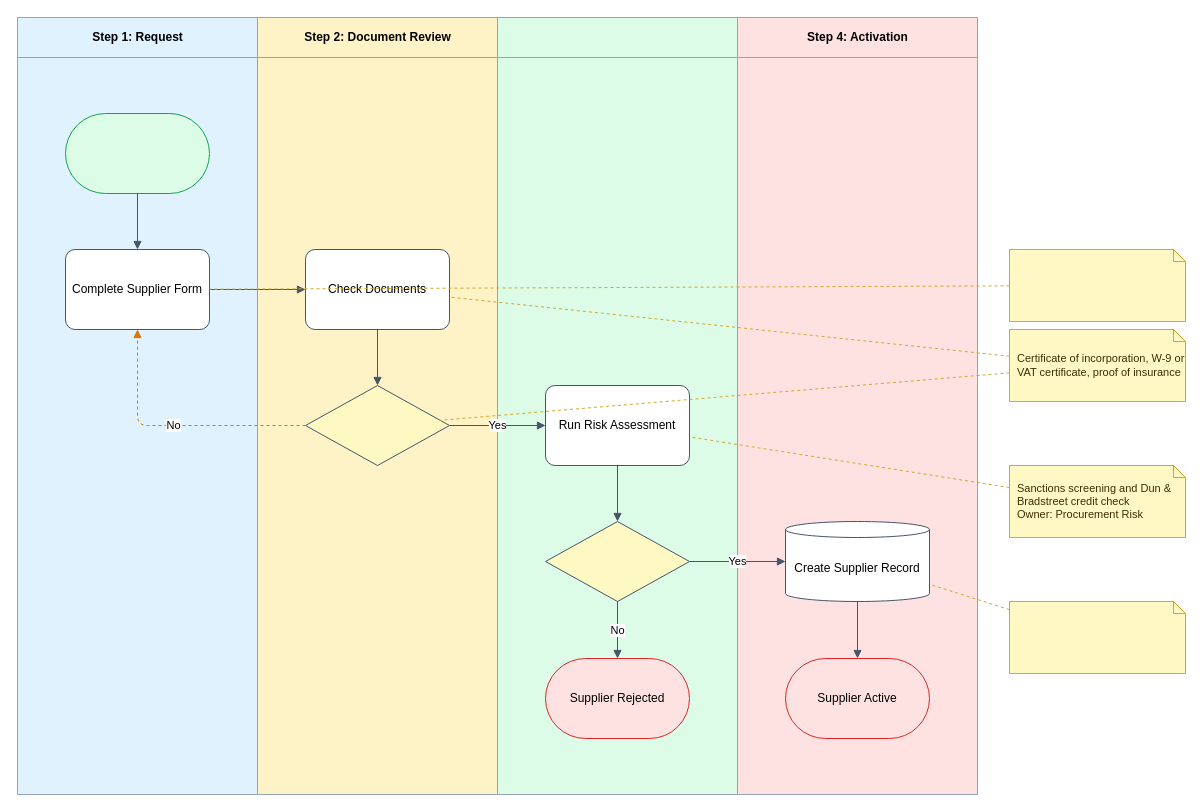
This 1203x812 diagram has some shape labels left out. Here are the shapes that lost their labels. From the top down, the box of each, then its label:
(64, 112, 210, 194): Request New Supplier
(1008, 248, 1186, 322): Supplier portal form: legal entity, bank details, tax ID
(304, 384, 450, 466): Documents Complete?
(496, 16, 738, 794): Step 3: Risk Assessment
(544, 520, 690, 602): Risk Acceptable?
(1008, 600, 1186, 674): ERP vendor master; payment terms Net 30 unless agreed otherwise
